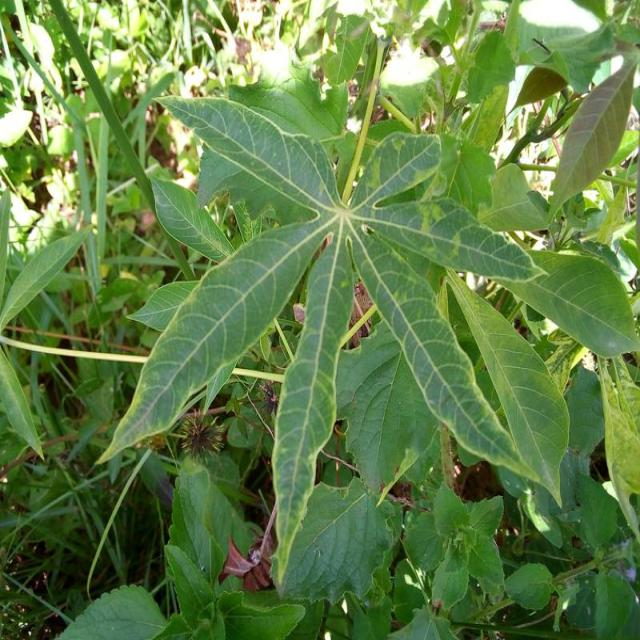cassava leaf: (93, 64, 632, 597), (93, 213, 331, 466)
